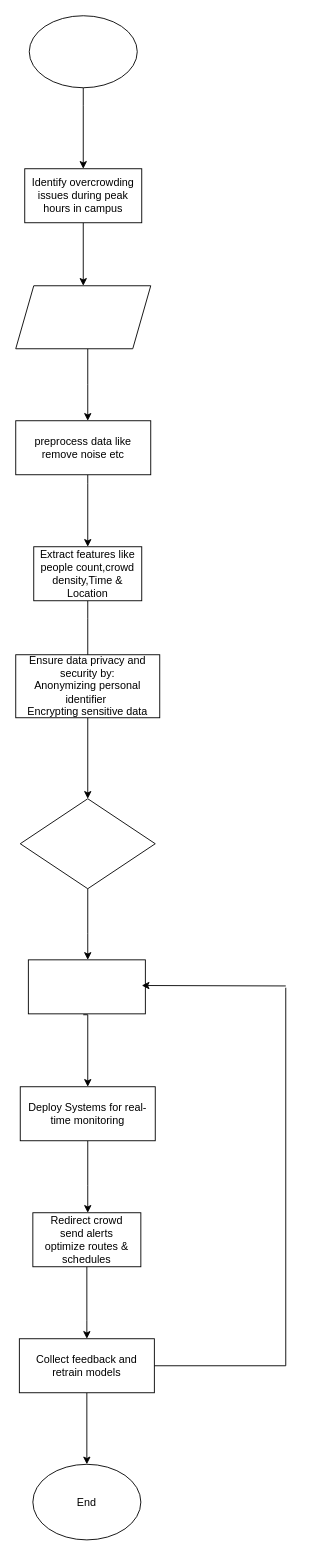
This 309x1556 diagram has some shape labels left out. Here are the shapes that lost their labels. From the top down, the centre of each, then its label:
(82,51): Start
(83,317): Collect data from CCTV cameras,IoT sensors, WiFi device count
(87,843): Select AI model which is most accurate
(86,986): Train Model using historic crowd data
